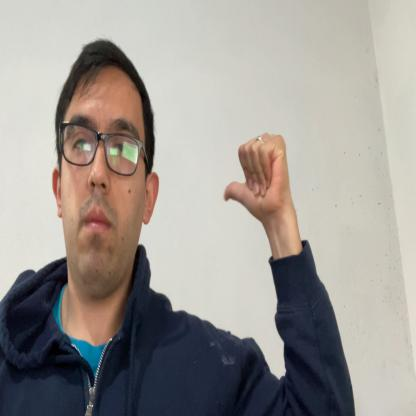A: (222, 130, 289, 226)
